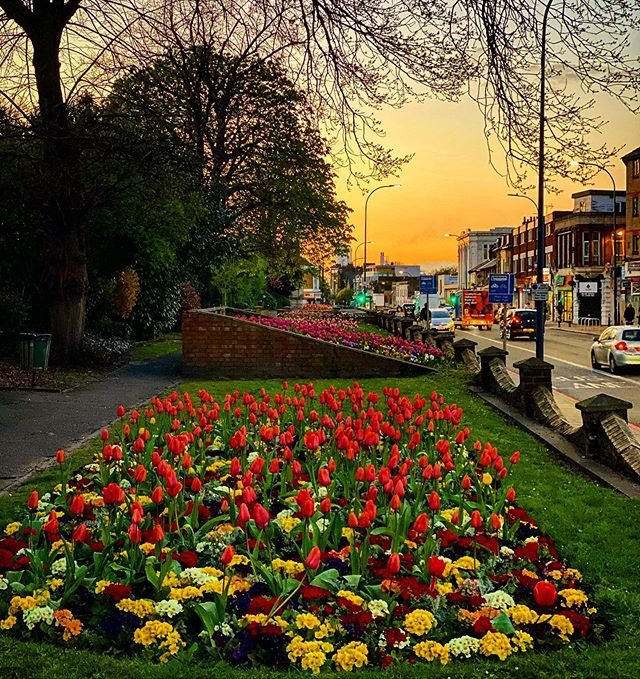building: (498, 179, 623, 330)
car: (497, 306, 554, 348), (583, 326, 640, 368), (410, 301, 460, 339)
flowers: (4, 362, 593, 663)
sky: (342, 1, 640, 261)
tree: (126, 46, 329, 299), (1, 106, 203, 359)
